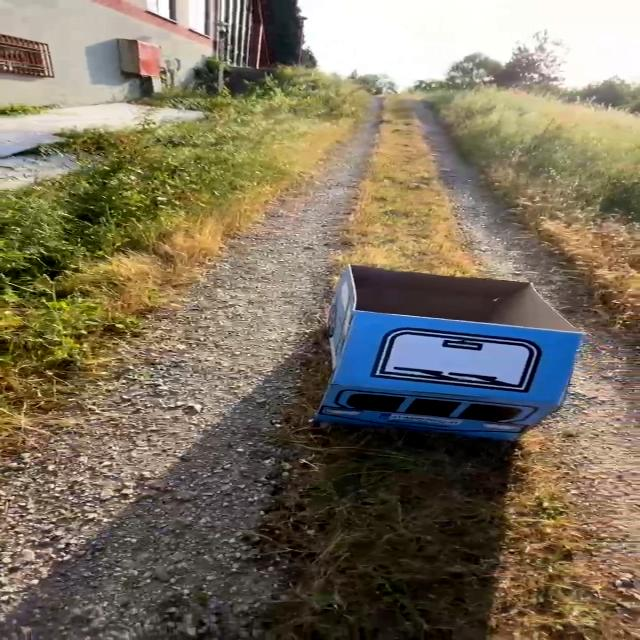blue_car: (252, 234, 640, 490)
